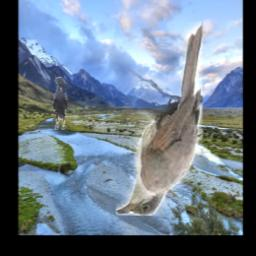Crow: (52, 77, 68, 130)
Cuckoo: (117, 23, 203, 217)
